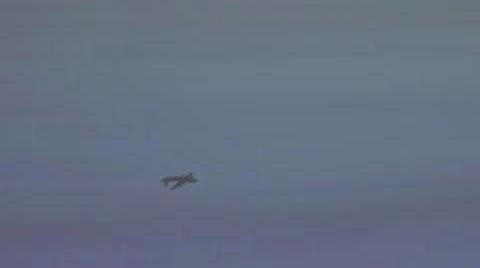Plane: (145, 164, 216, 200)
